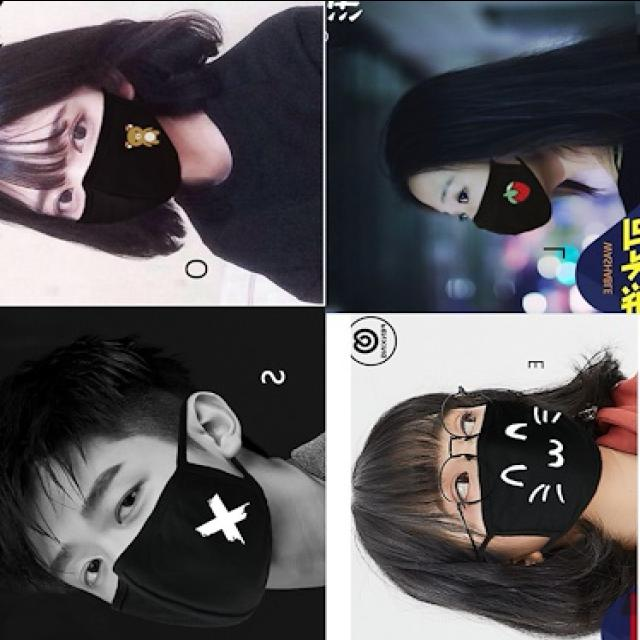mask: (42, 434, 268, 616), (428, 392, 604, 557), (29, 85, 183, 224), (432, 158, 554, 236)
